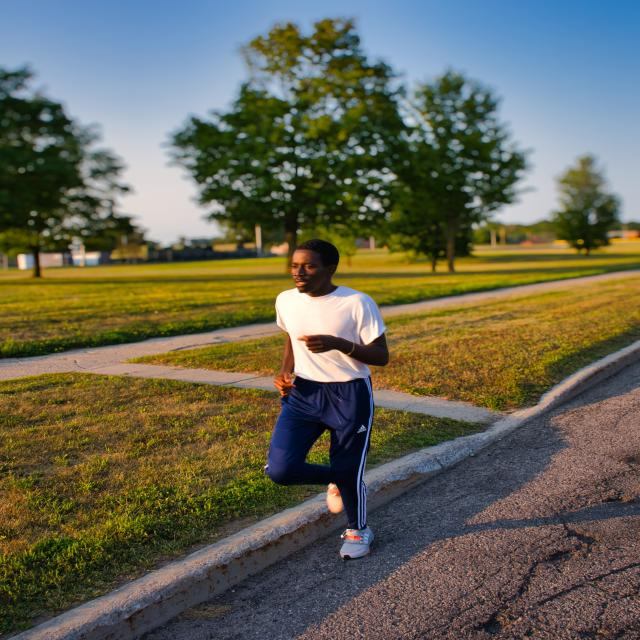running: (262, 237, 396, 562)
